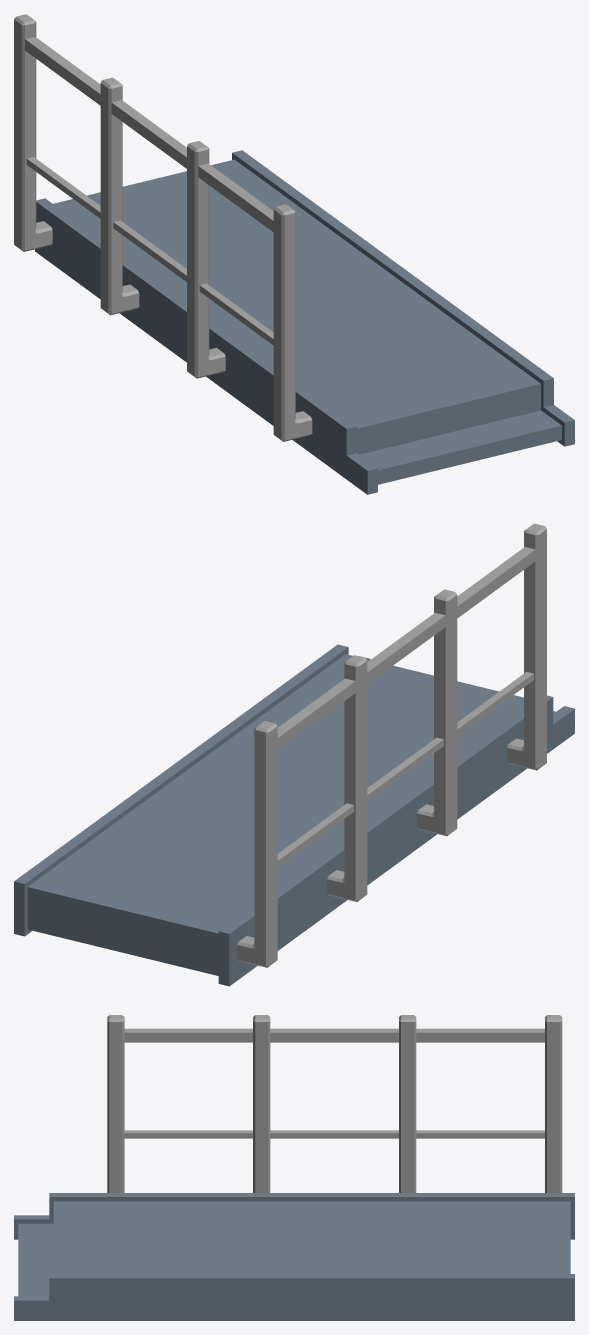
The model's file is plateforme.fbx.
3 renders of one model, top to bottom at view 1: azimuth 30°, elevation 25°; view 2: azimuth 150°, elevation 25°; view 3: azimuth 270°, elevation 25°, orthographic. The views are drawn at different scales.
Parts seen in each view (by area): view 1: plateforme4; view 2: plateforme4; view 3: plateforme4.
Boxes of the visible parts, x1,y1,x2,y2 form: plateforme4: (14,14,574,494); plateforme4: (14,523,574,986); plateforme4: (14,1015,574,1320).
Bounding box in the file's own units: 1090 × 1089 × 2649.
